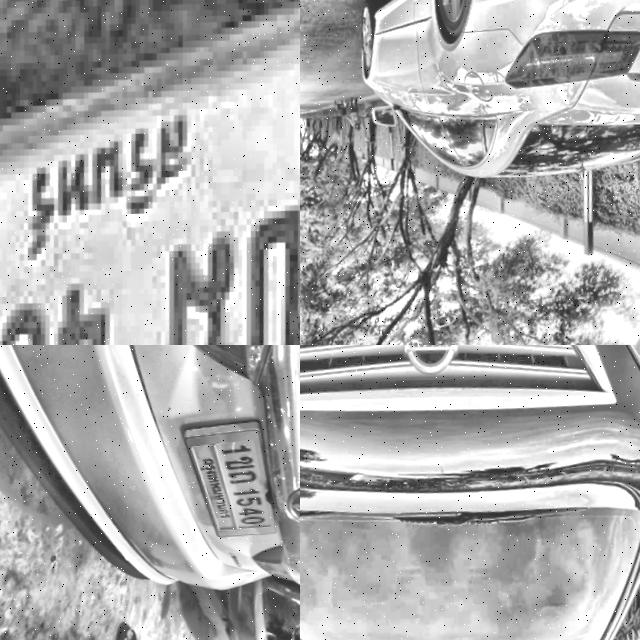license-plate: (0, 0, 300, 345), (174, 356, 245, 466)
